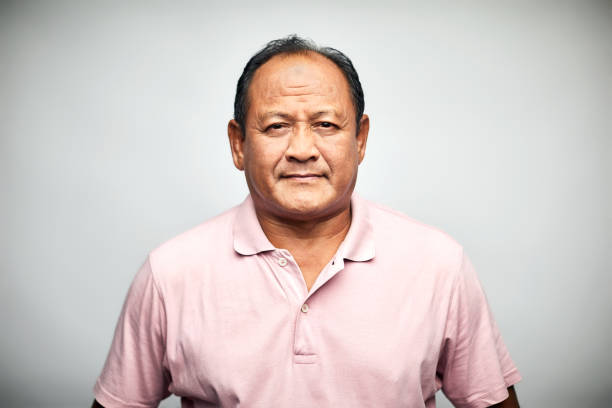person: (226, 34, 372, 222)
